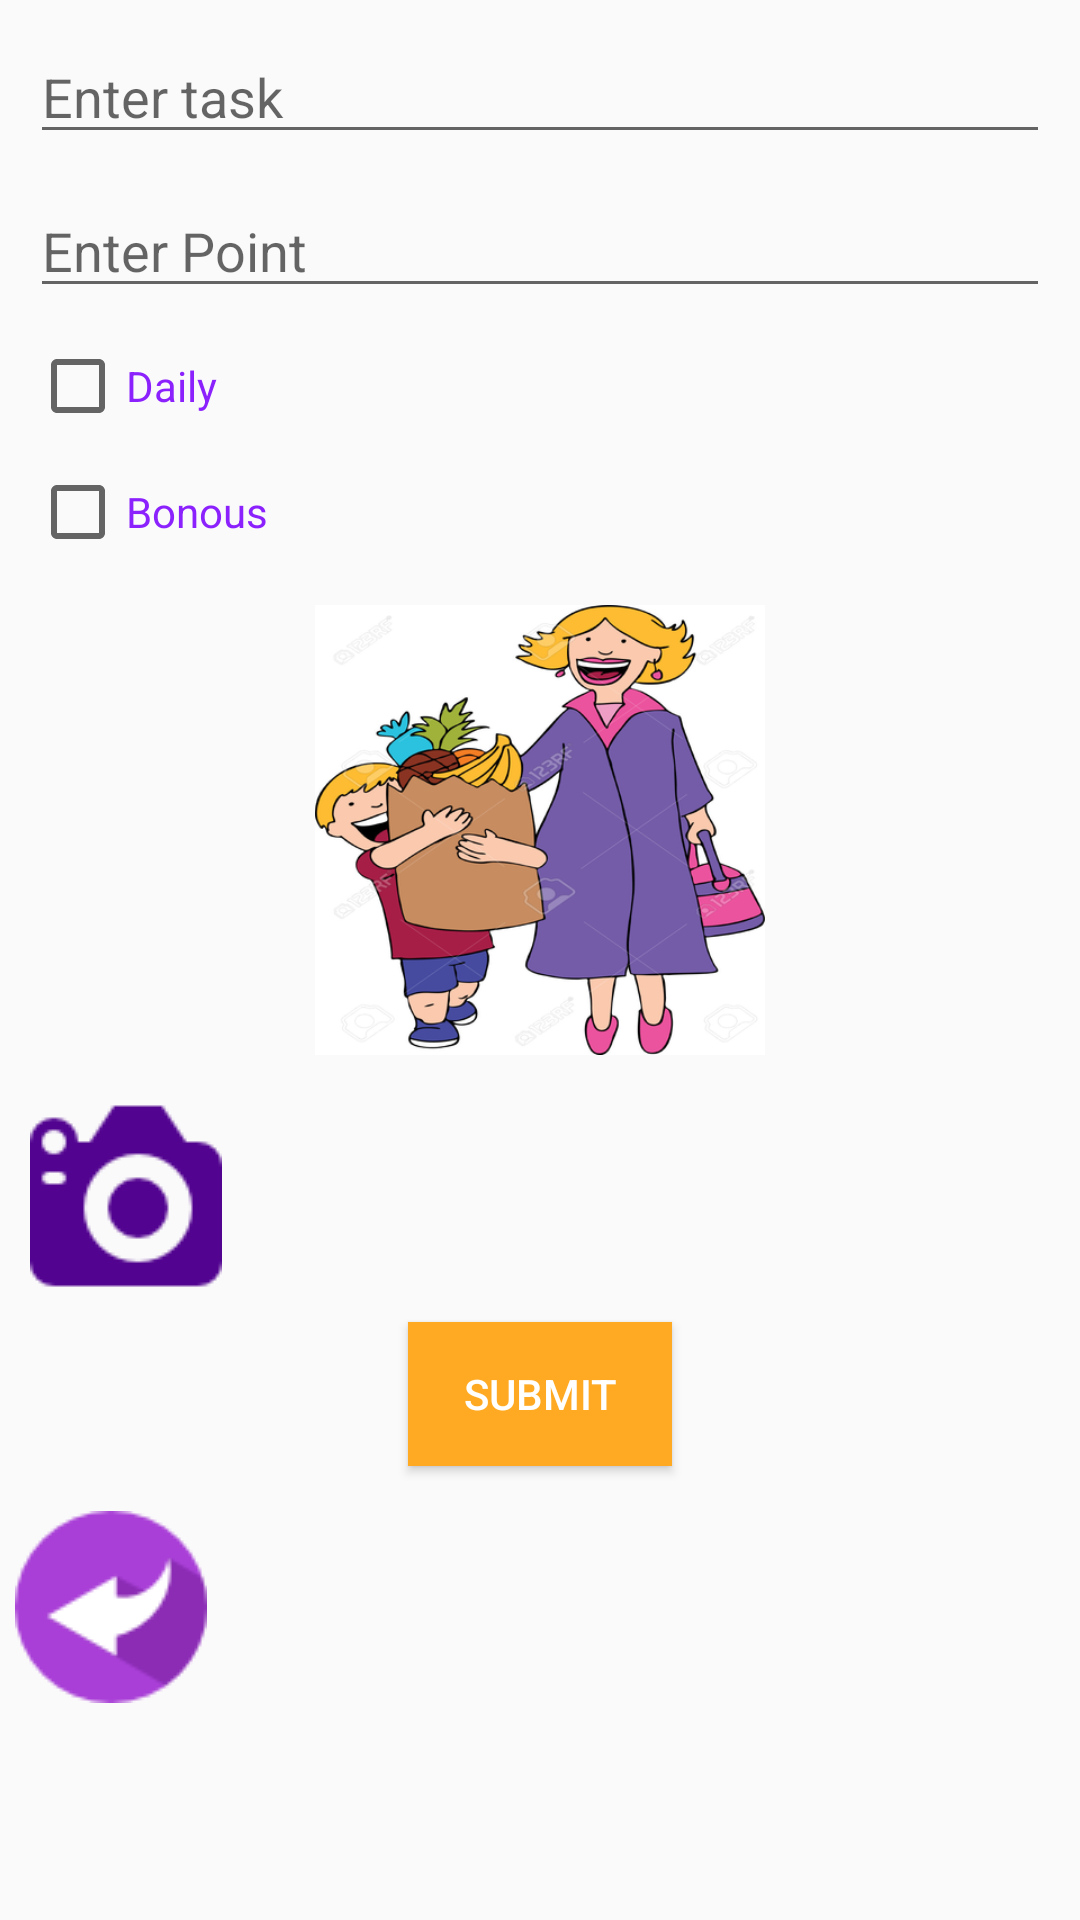

Locate icon controls on the screen. Image size 1080x1920, boxes as detection(x1, y1, x2, y2).
back: detection(15, 1511, 207, 1703)
camera: detection(30, 1105, 222, 1287)
